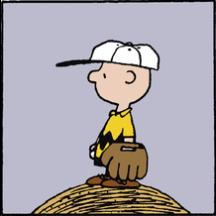charlie: (86, 39, 160, 189)
